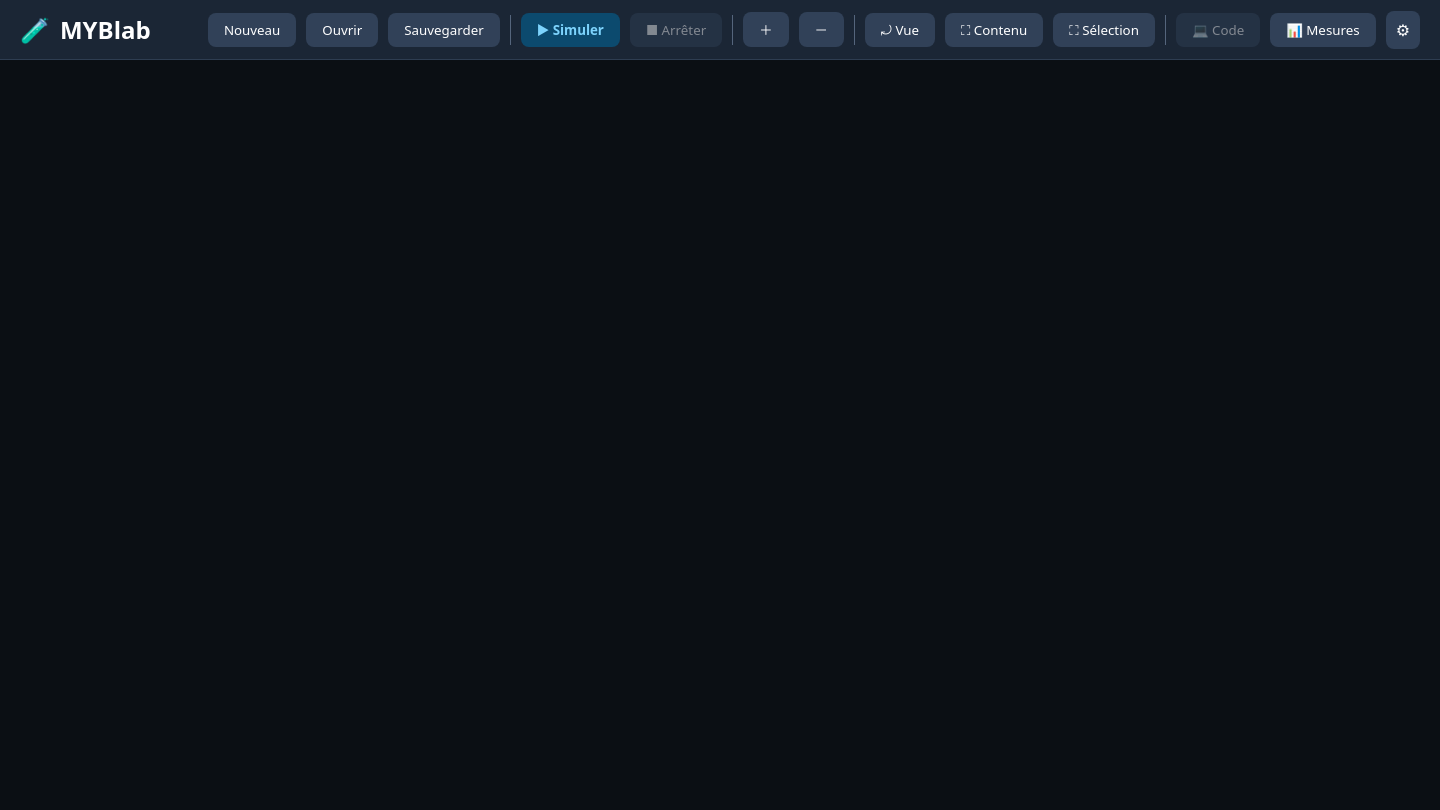
it: MB-MEASURE-002 — TEST T2 : circuit vide (AC-05) › aucune target sélectionnable, aucune exception, bouton Measure désactivé
Click the button titled "Mesures" at (1323, 30), box [1270,12,1376,46]
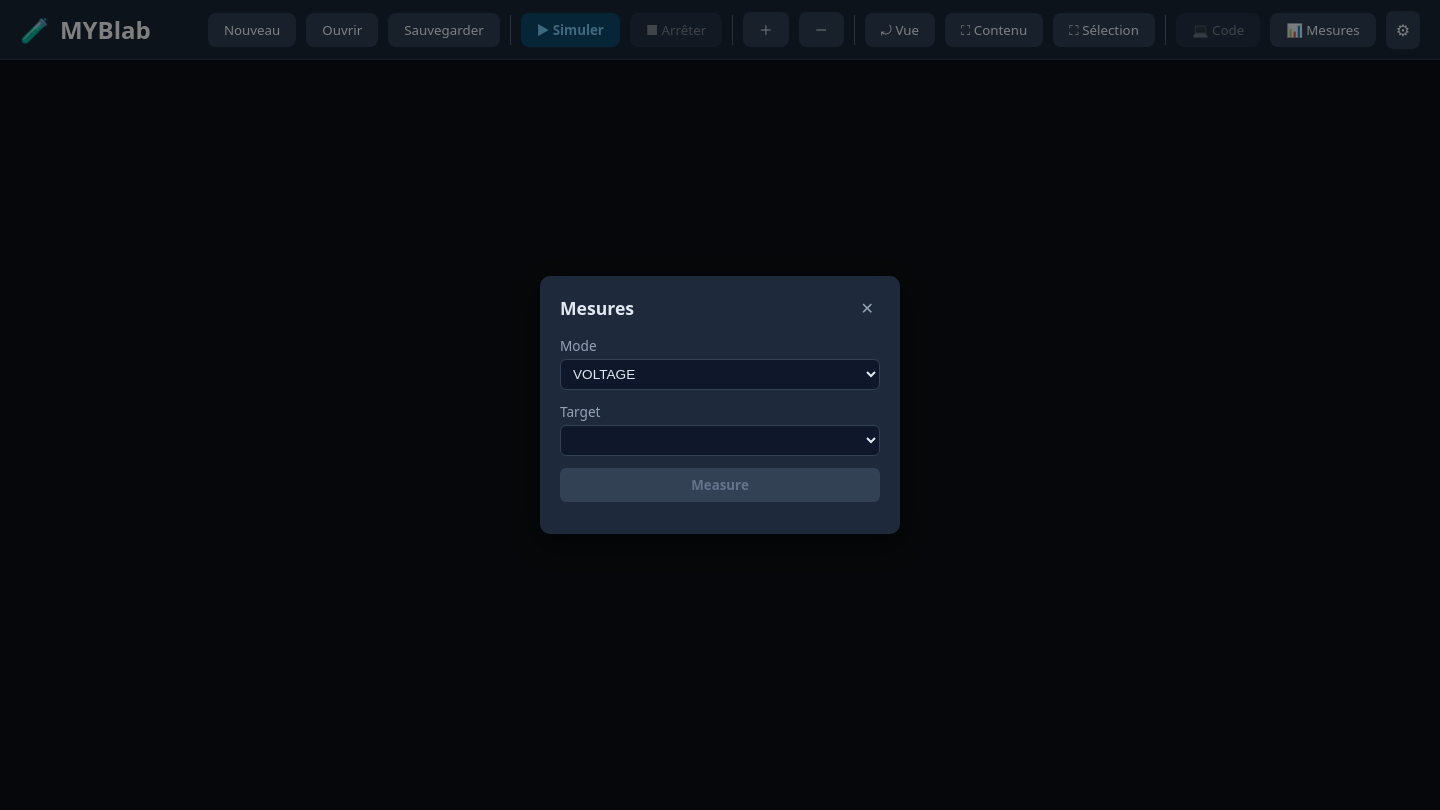
Check: the button "Measure" is disabled, box [560,468,880,502]
